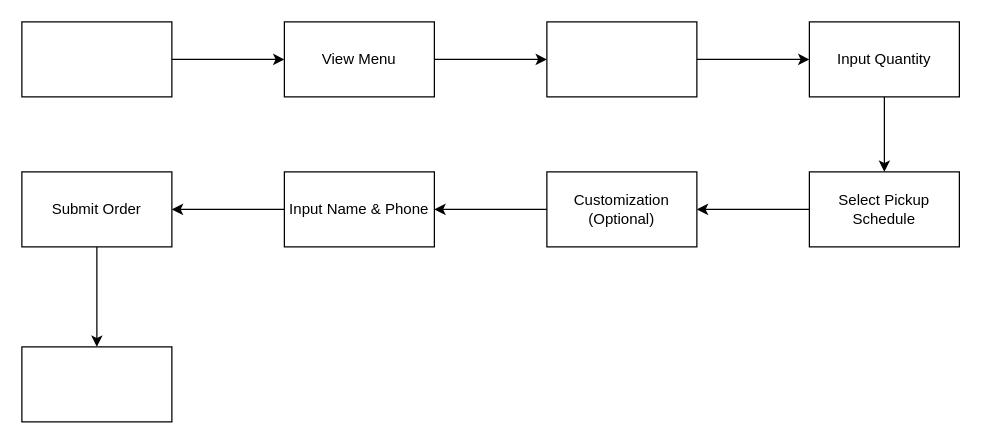
Some shapes in this 981 by 444 pixel diagram are drawn without their labels. The shapes that lost their labels are listed below. From the top down, each one's box as (x1, y1, x2, y2) in pixels, then its label:
(21, 21, 172, 97): Guest Ordering
(546, 21, 697, 97): Select Menu
(21, 346, 172, 422): Order Submitted
